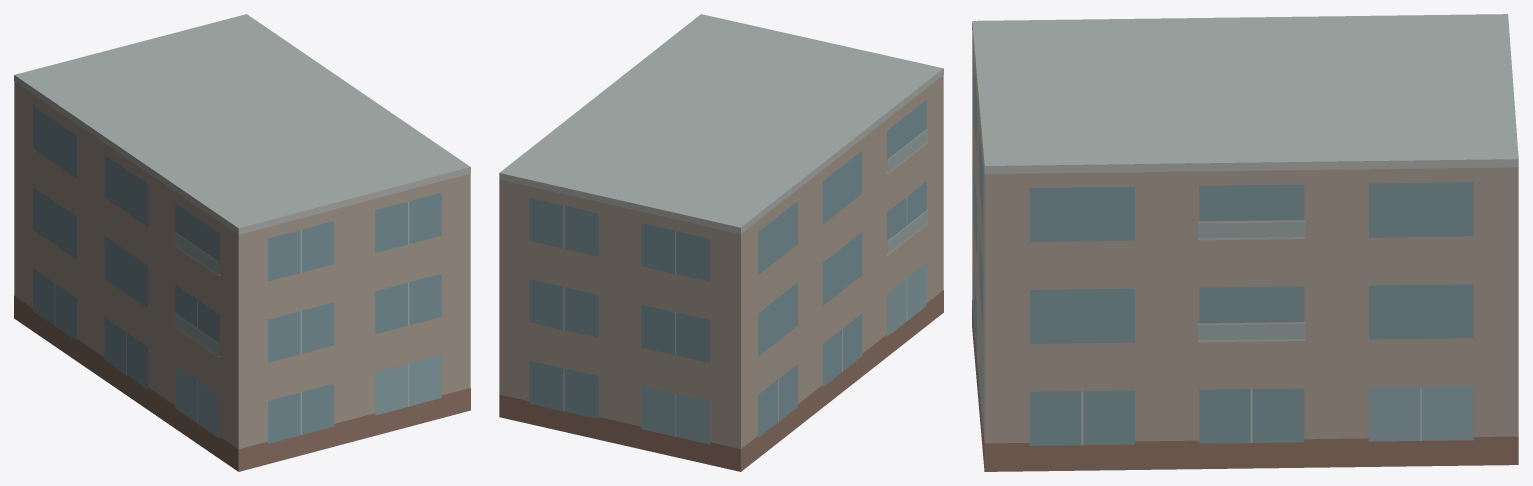
File: survey-upis-32706507.glb
3 views of the same model, side by side, from view 1: azimuth 30°, elevation 25°; view 2: azimuth 150°, elevation 25°; view 3: azimuth 270°, elevation 25° (orthographic). The views are drawn at different scales.
Parts seen in each view (by area): view 1: survey-upis-32706507.tmp; view 2: survey-upis-32706507.tmp; view 3: survey-upis-32706507.tmp.
Boxes of the visible parts, x1=… form: survey-upis-32706507.tmp: x1=14, y1=14, x2=470, y2=471; survey-upis-32706507.tmp: x1=499, y1=14, x2=943, y2=471; survey-upis-32706507.tmp: x1=972, y1=14, x2=1518, y2=471.
Bounding box in the file's own units: 9.77 × 9.15 × 14.83.
